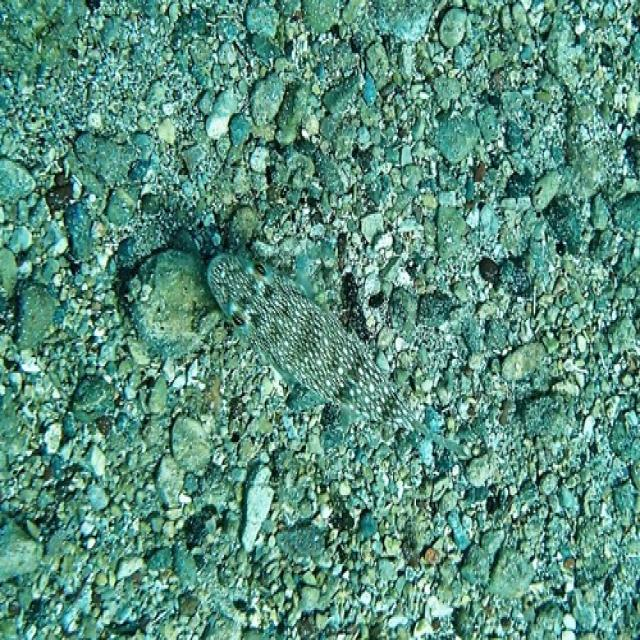Balik: (208, 255, 465, 456)
